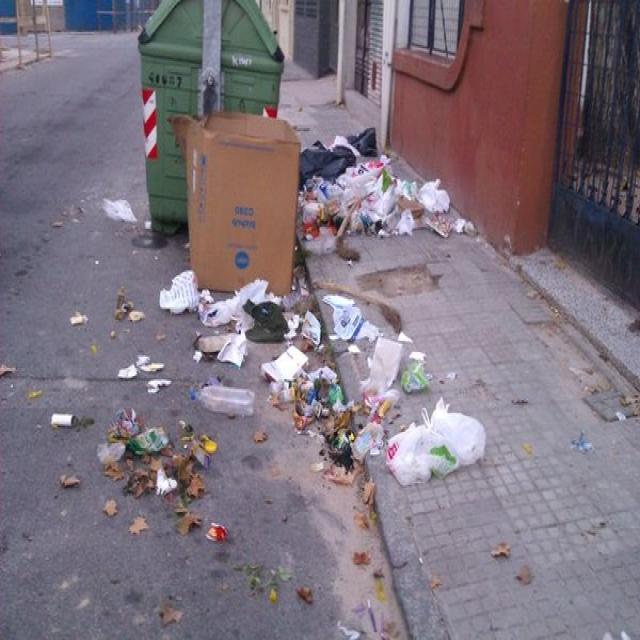garbage: (296, 132, 454, 255), (326, 278, 422, 434), (165, 260, 302, 358), (381, 414, 486, 482), (282, 346, 348, 451)
